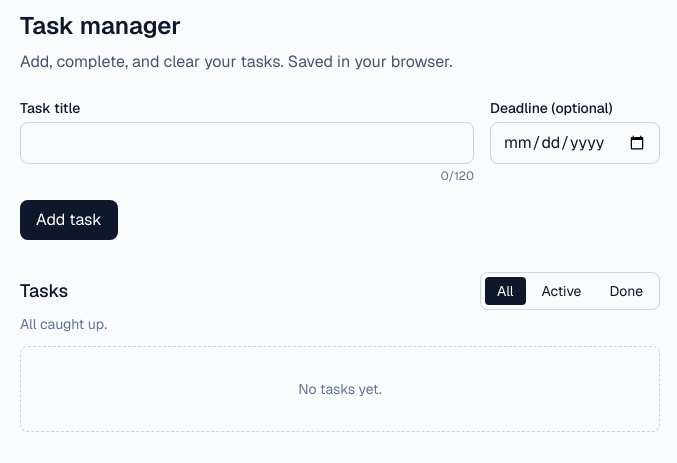
Test: TasksPage › filters between all, active and completed tasks
In the field labelled "Task title": (247, 143) left=20, top=122, right=474, bottom=164, type "Alpha"
Click the button "Add task": click(69, 220) left=20, top=200, right=118, bottom=240
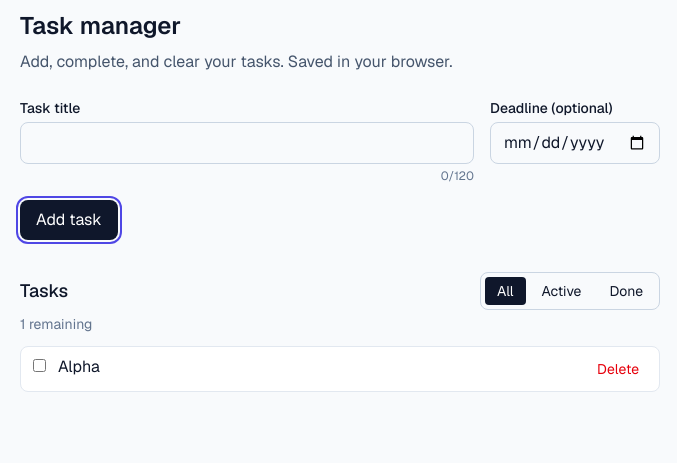
In the field labelled "Task title": (247, 143) left=20, top=122, right=474, bottom=164, type "Beta"
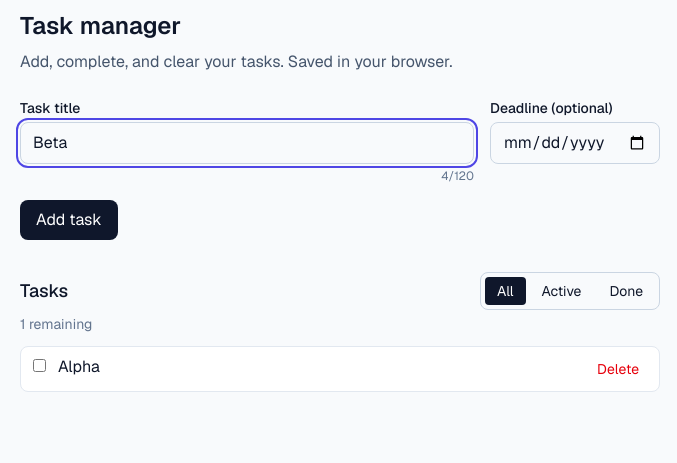
Click the button "Add task": click(69, 220) left=20, top=200, right=118, bottom=240
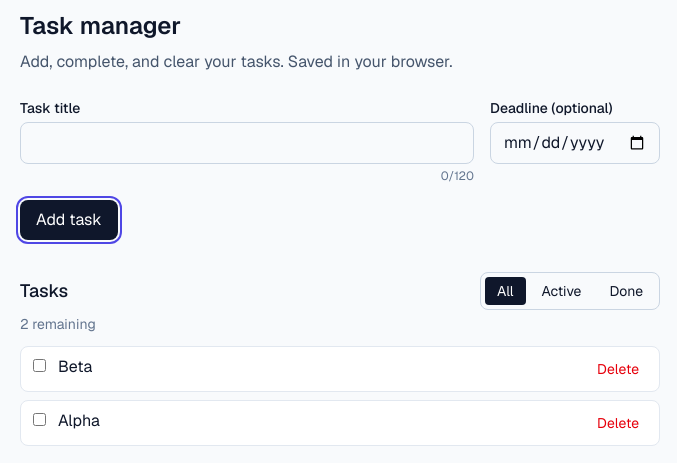
Click the checkbox named "Mark \"Alpha\" as done": click(40, 420) left=33, top=413, right=46, bottom=426
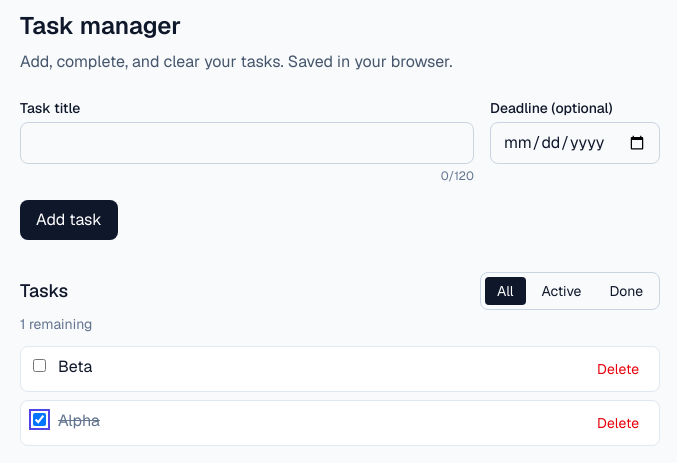
Click the button "Active": click(561, 291) left=530, top=277, right=593, bottom=305
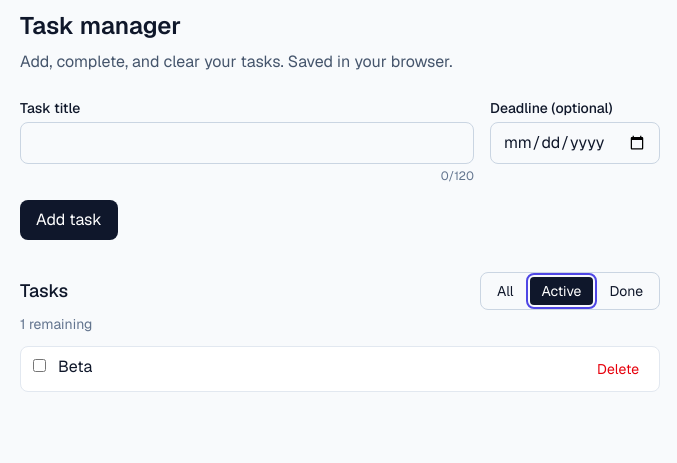
Click the button "Done": click(626, 291) left=597, top=277, right=655, bottom=305
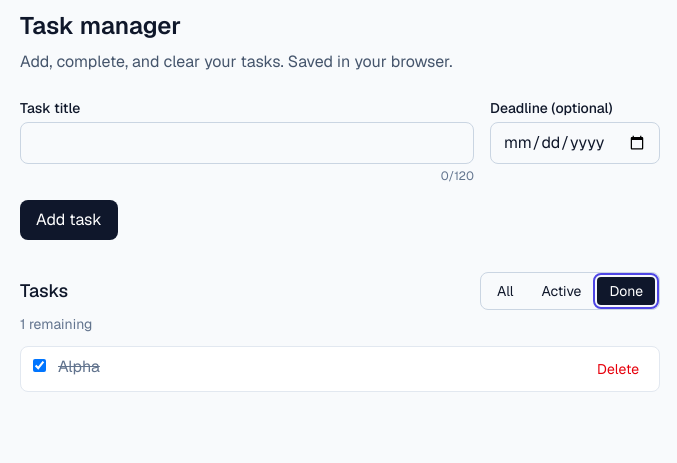
Expected: the checkbox named "Mark \"Alpha\" as not done" is shown, left=33, top=359, right=46, bottom=372
